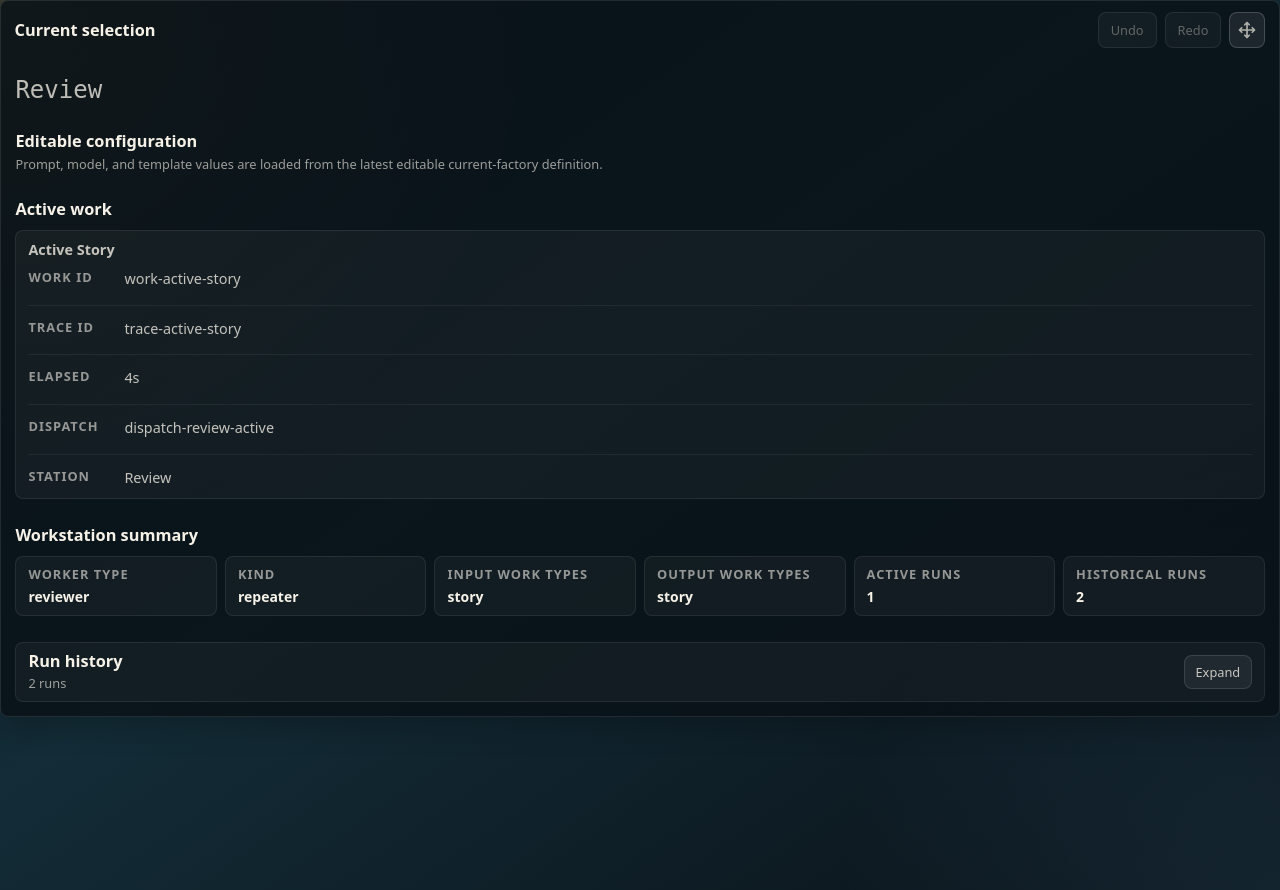
Scenario: WorkstationDetailCard › expands and collapses selected workstation historical runs without hiding active work
Expected: the text "Active Story" is shown, 28,240 -> 115,258
Expected: the text "Rejected Story" is not shown
Click the button "Expand" at (1218, 672), box 1184,654 -> 1252,689
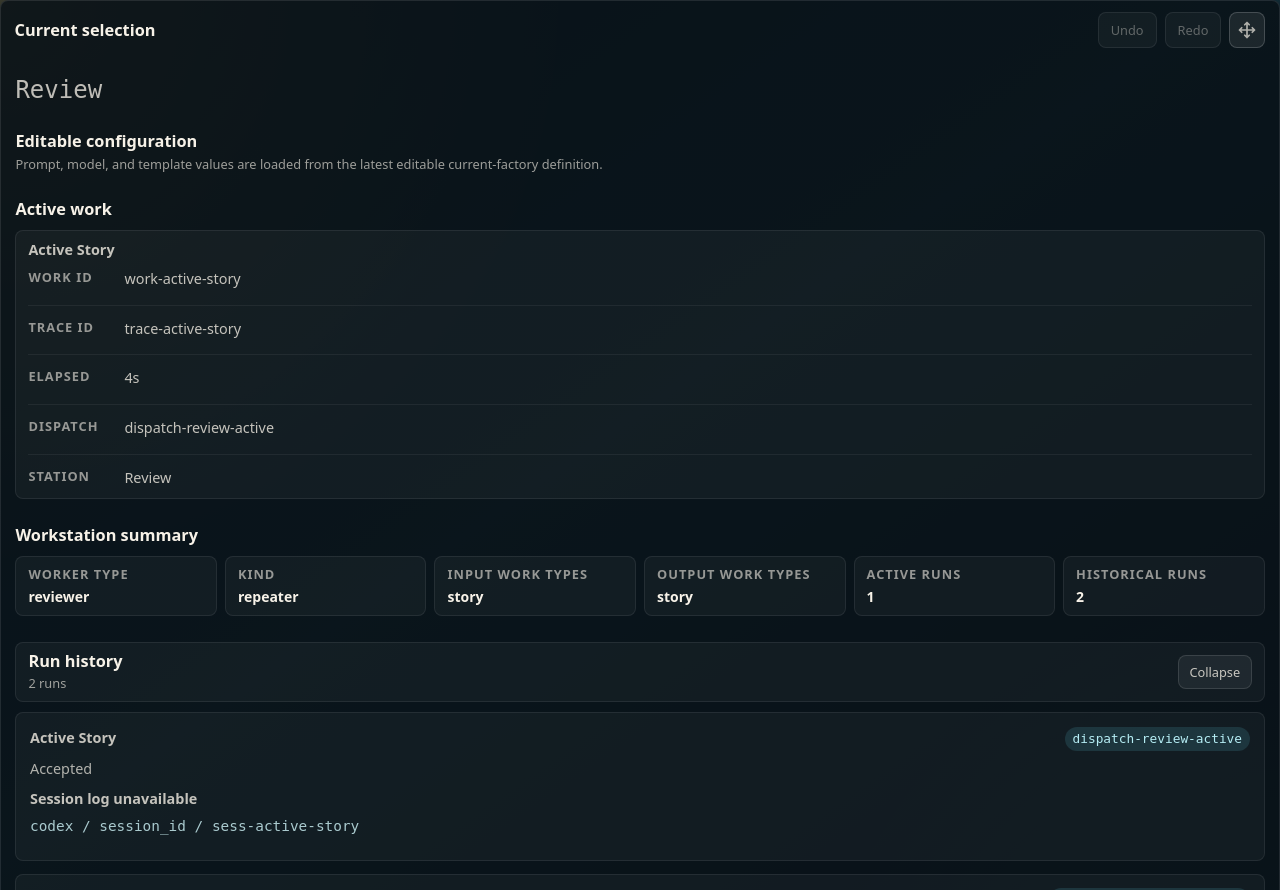
Now the button "Collapse" is expanded
Now the text "Active Story" below "2 runs" is shown, box 30,728 -> 116,747
Now the 2nd text "dispatch-review-active" is shown, box 1064,727 -> 1250,751
Click the button "Collapse" at (1215, 672), box 1178,654 -> 1252,689
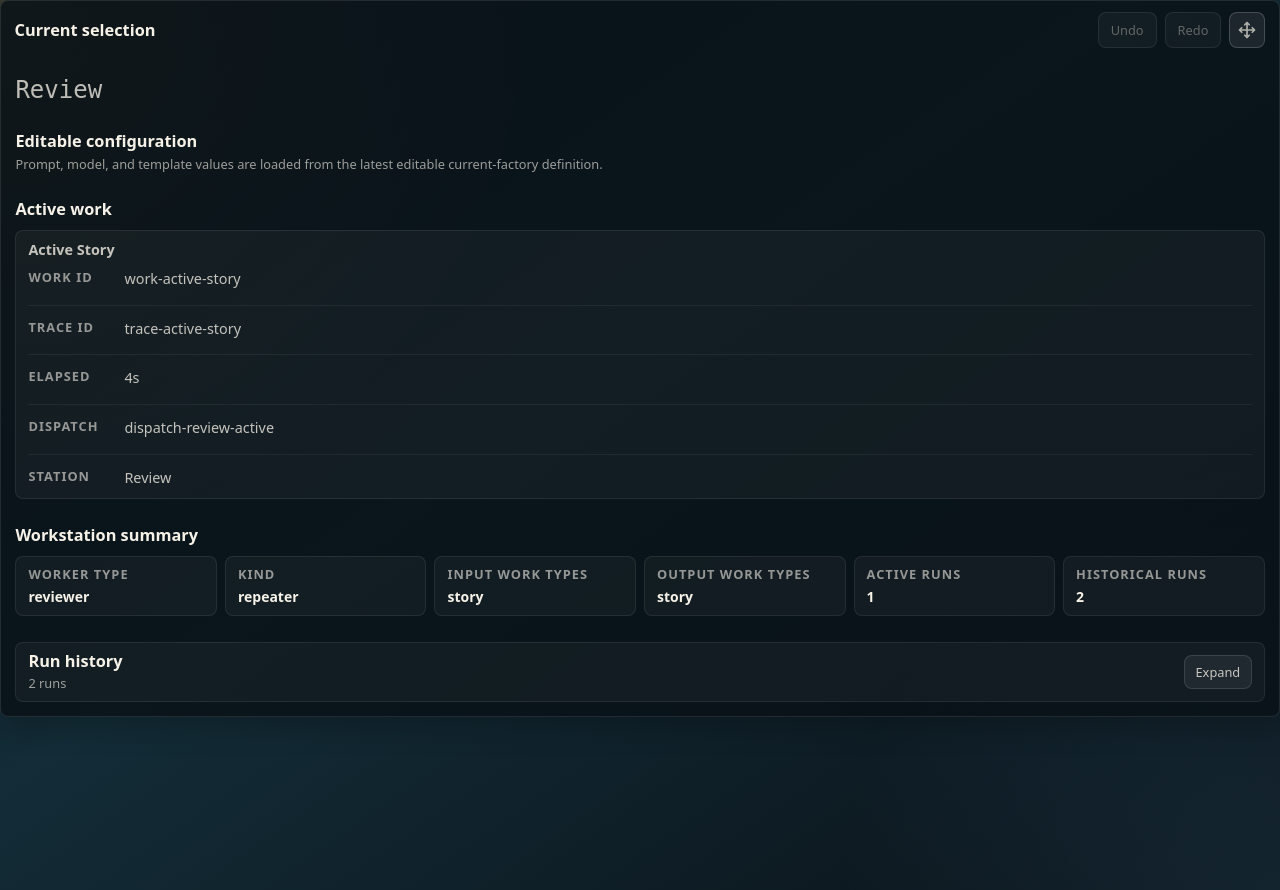
Expected: the text "Active Story" is shown, 28,240 -> 115,258
Now the button "Expand" is collapsed, box 1184,654 -> 1252,689
